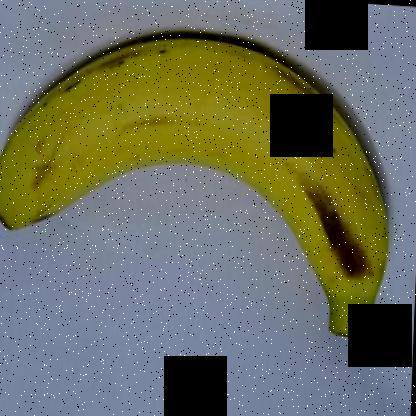freshripe: (0, 15, 403, 354)
